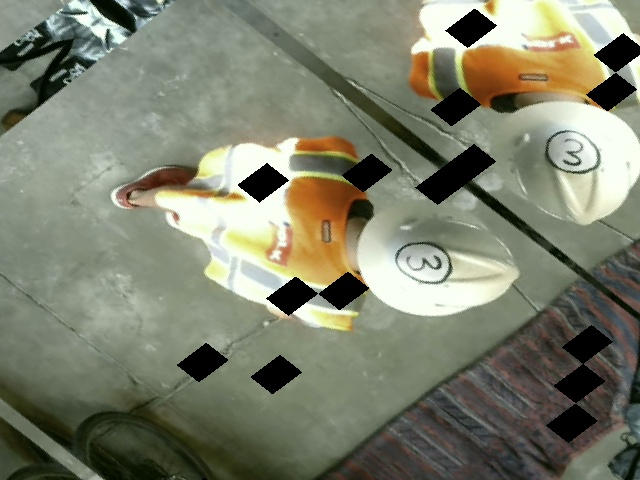three: (387, 232, 463, 291)
